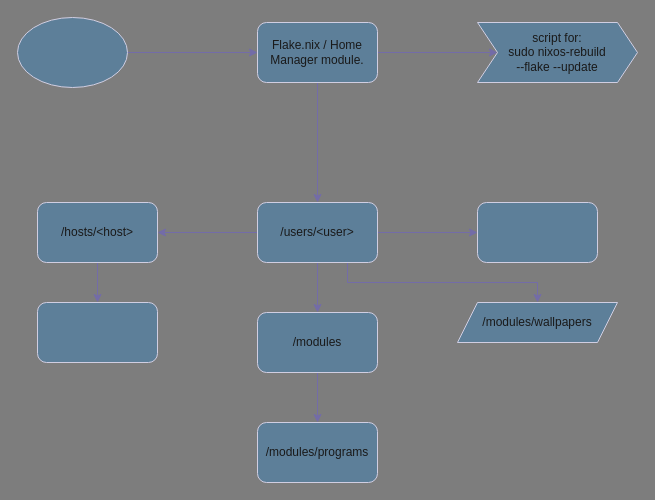
The diagram is 655 pixels wide and 500 high, and some of its shapes have lost their labels. Here are the shapes that lost their labels. From the top down, the centre of each, then its label:
(72,52): inputs {from internet}
(537,232): /common/gui
(97,332): /common/system
